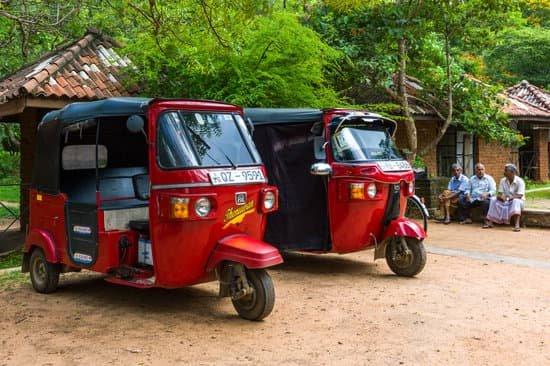threewheel: (21, 97, 282, 322), (244, 105, 428, 280)
